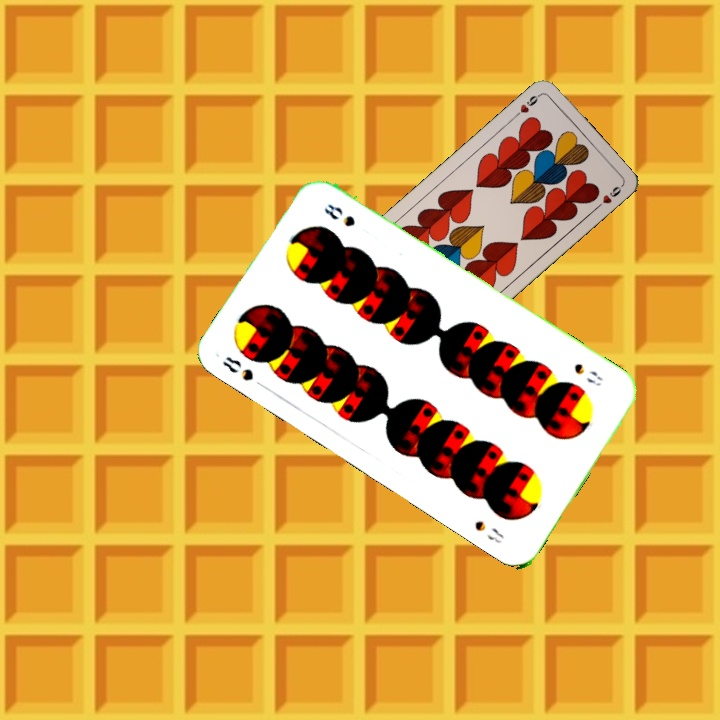H9: (510, 90, 544, 120)
S8: (218, 352, 269, 392), (569, 359, 606, 389)
